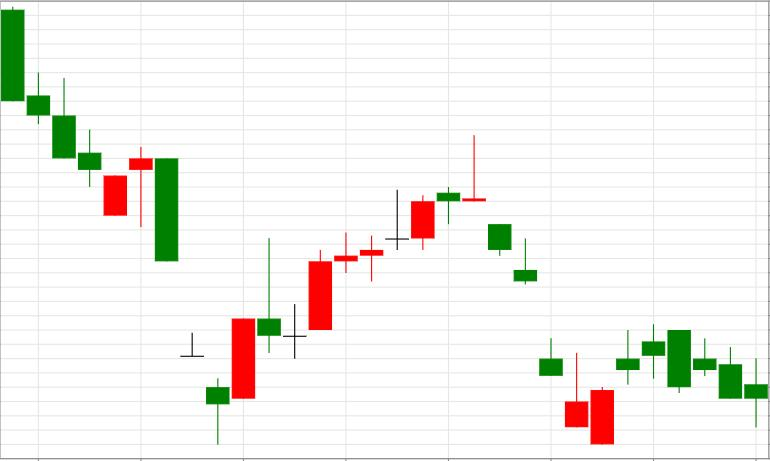inverse_hammer_rise: (437, 136, 588, 427)
